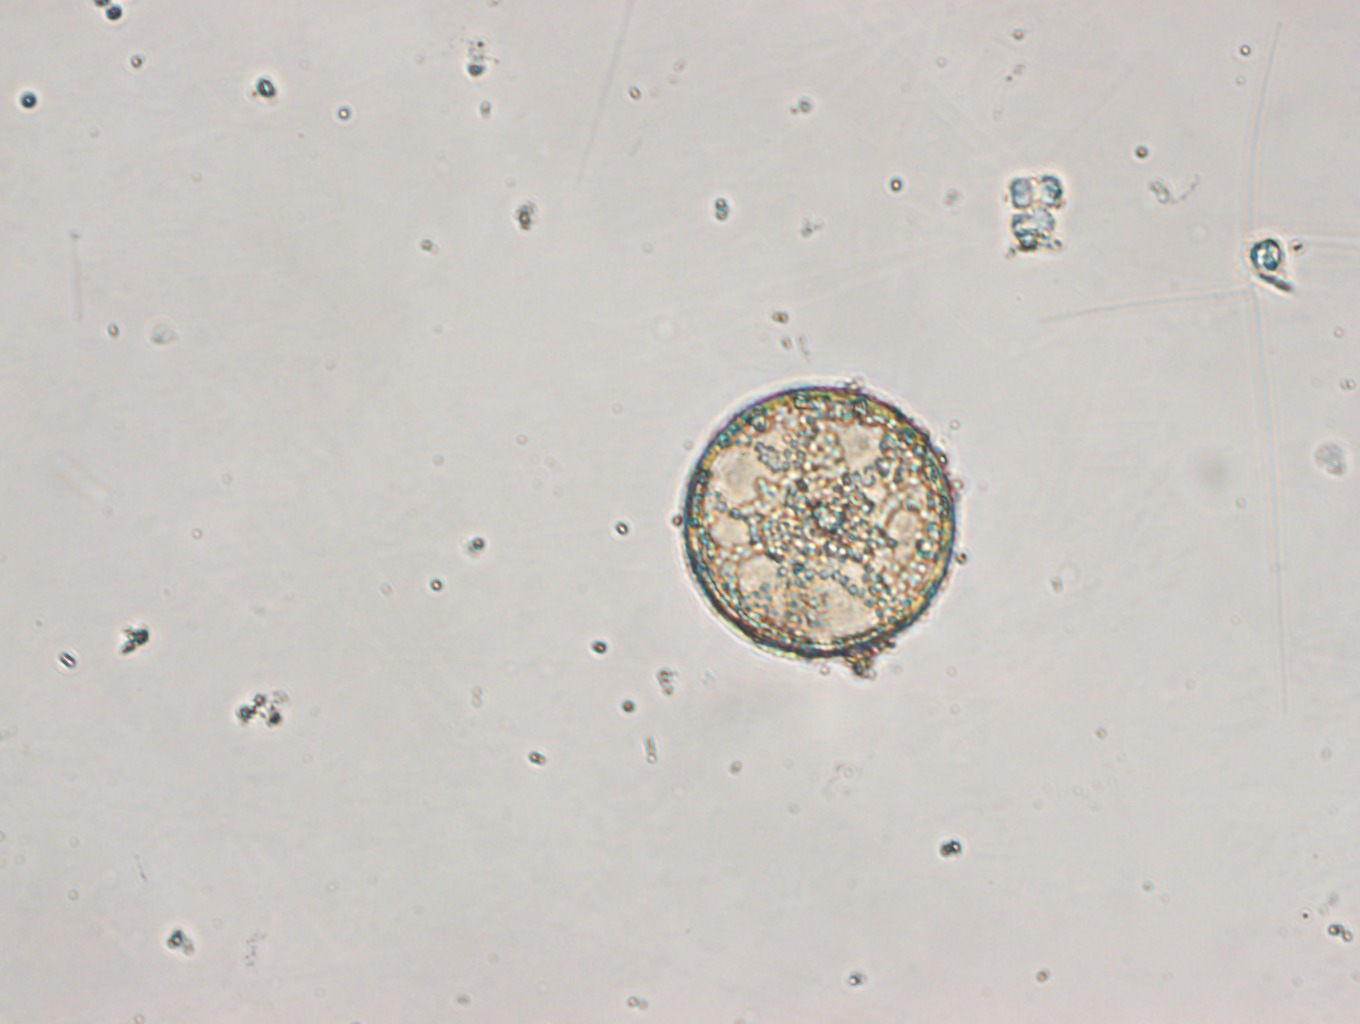chaetoceros: (1051, 27, 1360, 554)
coscinodiscus: (679, 381, 965, 670)
